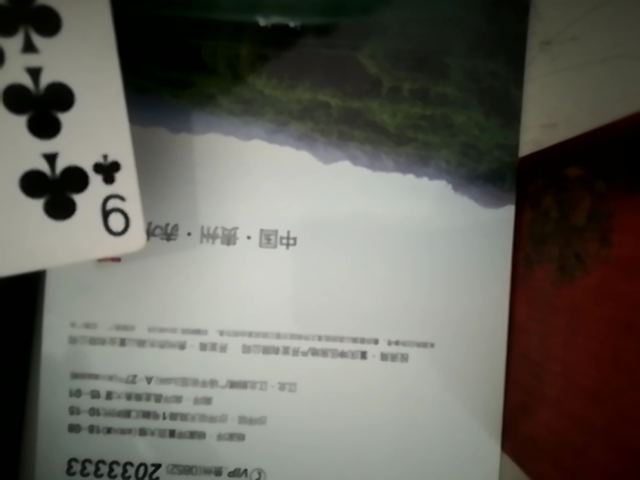mh 9: (0, 2, 147, 327)
